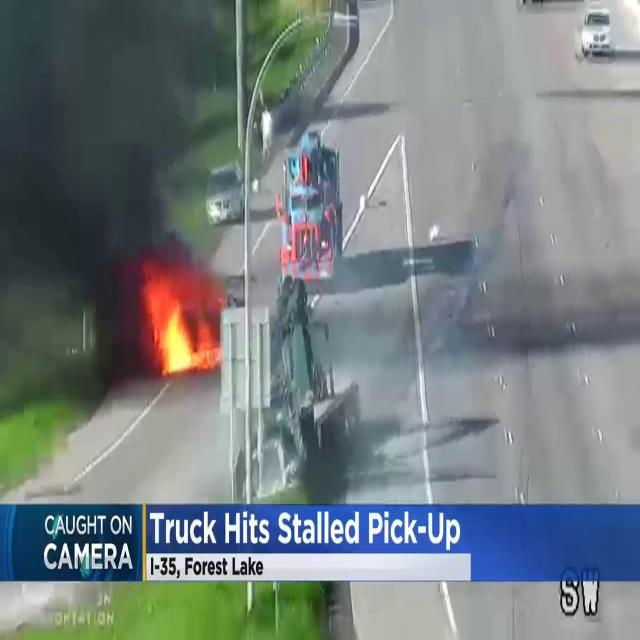Fire: (142, 270, 224, 378)
Smoke: (358, 120, 638, 448), (0, 1, 213, 348)
